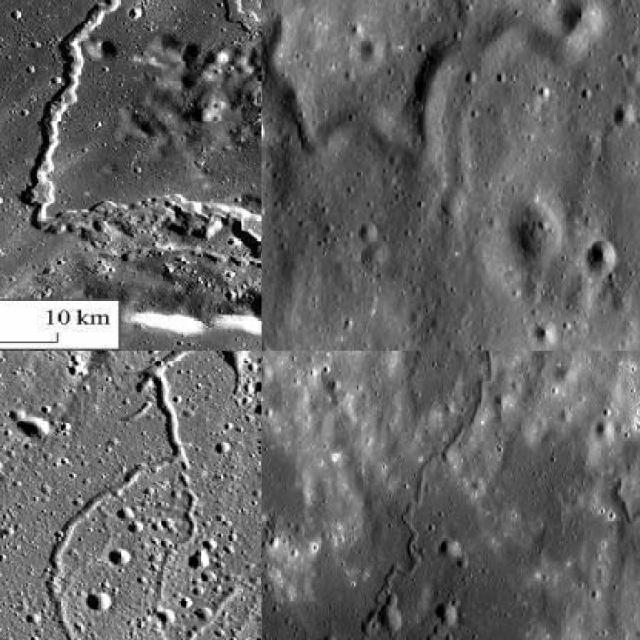rille: (262, 351, 563, 638), (15, 0, 260, 311), (0, 351, 260, 638), (45, 351, 252, 638), (262, 1, 604, 172), (151, 471, 200, 617)
